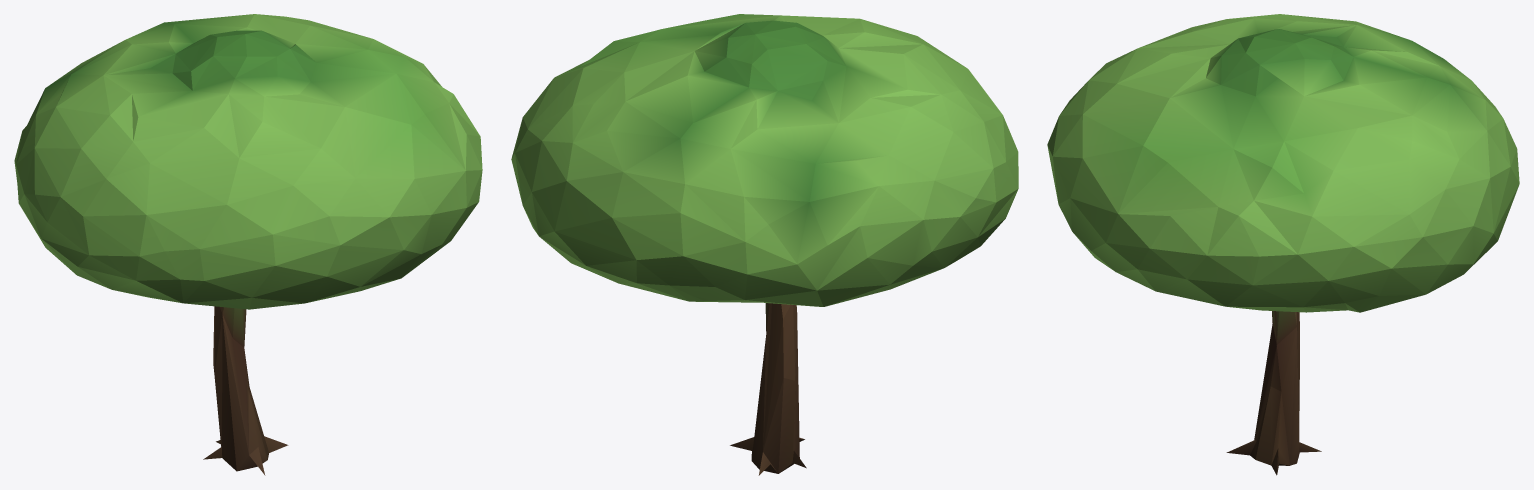
Rendered from broadleaf_mature_large_spreading_far.glb.
3 renders of one model, left to right at view 1: azimuth 30°, elevation 25°; view 2: azimuth 150°, elevation 25°; view 3: azimuth 270°, elevation 25°, orthographic. The views are drawn at different scales.
Parts seen in each view (by area): view 1: broadleaf_mature_large_spreading_LOD3; view 2: broadleaf_mature_large_spreading_LOD3; view 3: broadleaf_mature_large_spreading_LOD3.
Part boxes in pixels (x1=…): broadleaf_mature_large_spreading_LOD3: x1=14, y1=14, x2=482, y2=475; broadleaf_mature_large_spreading_LOD3: x1=511, y1=14, x2=1018, y2=475; broadleaf_mature_large_spreading_LOD3: x1=1047, y1=14, x2=1519, y2=475.
Bounding box in the file's own units: 7.22 × 6.92 × 6.98.
